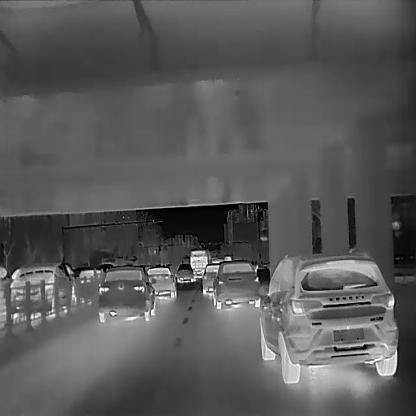car: (255, 246, 398, 384), (9, 261, 73, 317), (97, 263, 155, 322), (209, 259, 261, 308), (73, 265, 105, 305), (144, 263, 176, 299), (200, 262, 222, 293), (188, 248, 210, 278), (175, 263, 193, 285)
